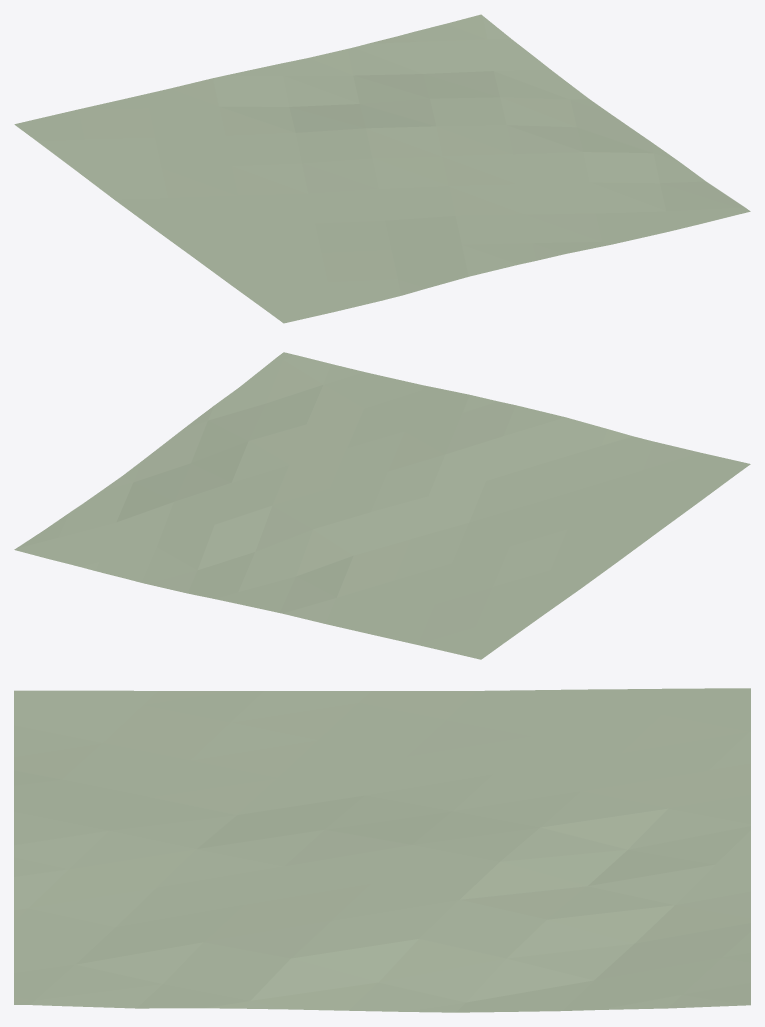
File: SM_MPRR_Terrain_-2_2.fbx
3 renders of one model, top to bottom at view 1: azimuth 30°, elevation 25°; view 2: azimuth 150°, elevation 25°; view 3: azimuth 270°, elevation 25°, orthographic. The views are drawn at different scales.
Parts seen in each view (by area): view 1: SM_MPRR_Terrain_-2_2; view 2: SM_MPRR_Terrain_-2_2; view 3: SM_MPRR_Terrain_-2_2.
Part boxes in pixels (x1,y1,x2,y2): SM_MPRR_Terrain_-2_2: [14, 14, 750, 323]; SM_MPRR_Terrain_-2_2: [14, 352, 750, 659]; SM_MPRR_Terrain_-2_2: [14, 688, 750, 1012].
Bounding box in the file's own units: 15000 × 15000 × 291.
